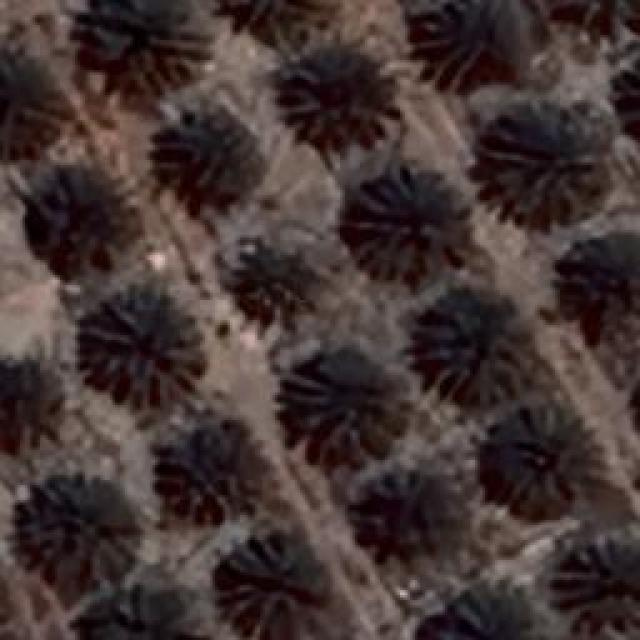PalmTree: (30, 14, 594, 115), (264, 348, 406, 454), (480, 100, 605, 220), (345, 165, 470, 280), (8, 472, 138, 582), (80, 294, 205, 408), (410, 297, 530, 405), (495, 397, 605, 505), (28, 164, 132, 272), (88, 0, 212, 88), (162, 421, 268, 521), (158, 114, 252, 208), (354, 475, 464, 555), (220, 532, 322, 618), (291, 52, 389, 140), (562, 535, 640, 640), (421, 0, 529, 75), (557, 237, 640, 332), (234, 236, 312, 326), (81, 590, 219, 640), (431, 585, 544, 640), (0, 350, 60, 452), (214, 0, 328, 36), (615, 46, 640, 146), (621, 47, 640, 148)
